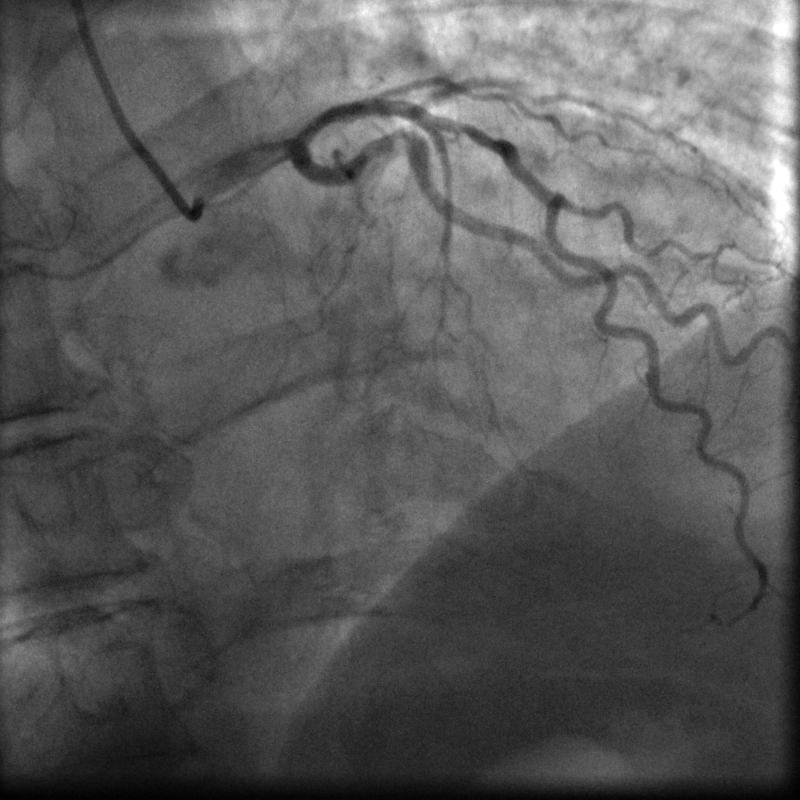Stenosis: (366, 124, 424, 154)
